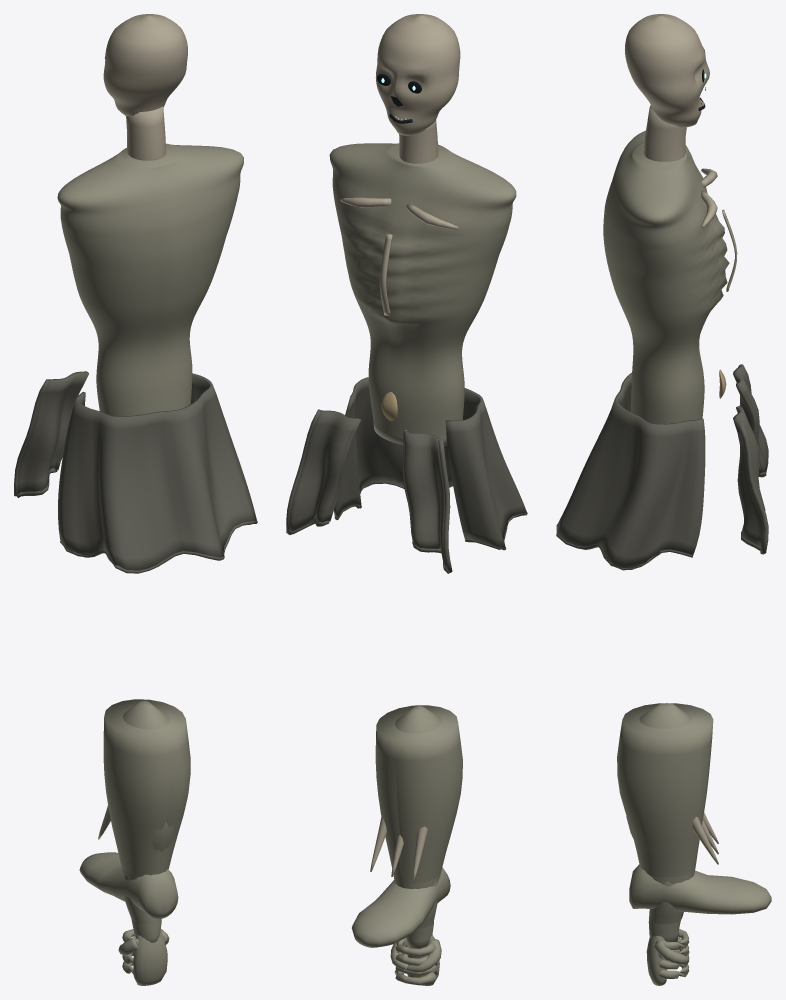
File: raider.glb
The picture shows the model from 3 angles, left to right: view 1: azimuth 30°, elevation 25°; view 2: azimuth 150°, elevation 25°; view 3: azimuth 270°, elevation 25°; orthographic projection.
Visible parts, largest first — view 1: Body__skin, Body__ash, LegL__skin, Body__bone, KneeL__skin, ArmL__skin, LegR__skin, ArmR__skin; view 2: Body__skin, Body__ash, Body__bone, LegL__skin, KneeL__skin, LegR__skin, ArmL__skin, ArmR__skin, Weapon__bone; view 3: Body__skin, Body__ash, LegR__skin, Body__bone, KneeL__skin, ArmL__skin, LegL__skin, ArmR__skin, Weapon__bone.
Part boxes in pixels (x1,y1,x2,y2): Body__skin: (57, 143, 243, 416); Body__ash: (14, 371, 257, 573); LegL__skin: (103, 699, 185, 876); Body__bone: (103, 14, 187, 160); KneeL__skin: (79, 822, 178, 918); ArmL__skin: (122, 701, 169, 985); LegR__skin: (121, 719, 190, 879); ArmR__skin: (118, 701, 164, 965); Body__skin: (329, 143, 516, 446); Body__ash: (286, 377, 527, 573); Body__bone: (340, 14, 460, 316); LegL__skin: (376, 705, 462, 887); KneeL__skin: (351, 867, 450, 947); LegR__skin: (375, 726, 440, 888); ArmL__skin: (390, 706, 439, 985); ArmR__skin: (394, 706, 441, 983); Weapon__bone: (370, 816, 427, 882); Body__skin: (603, 130, 729, 424); Body__ash: (556, 364, 768, 570); LegR__skin: (617, 720, 713, 877); Body__bone: (625, 14, 737, 291); KneeL__skin: (626, 816, 771, 914); ArmL__skin: (639, 704, 691, 985); LegL__skin: (617, 703, 713, 883); ArmR__skin: (639, 703, 691, 978); Weapon__bone: (692, 812, 718, 864).
Bounding box in the file's own units: 0.5174 × 2.62 × 0.5291.
